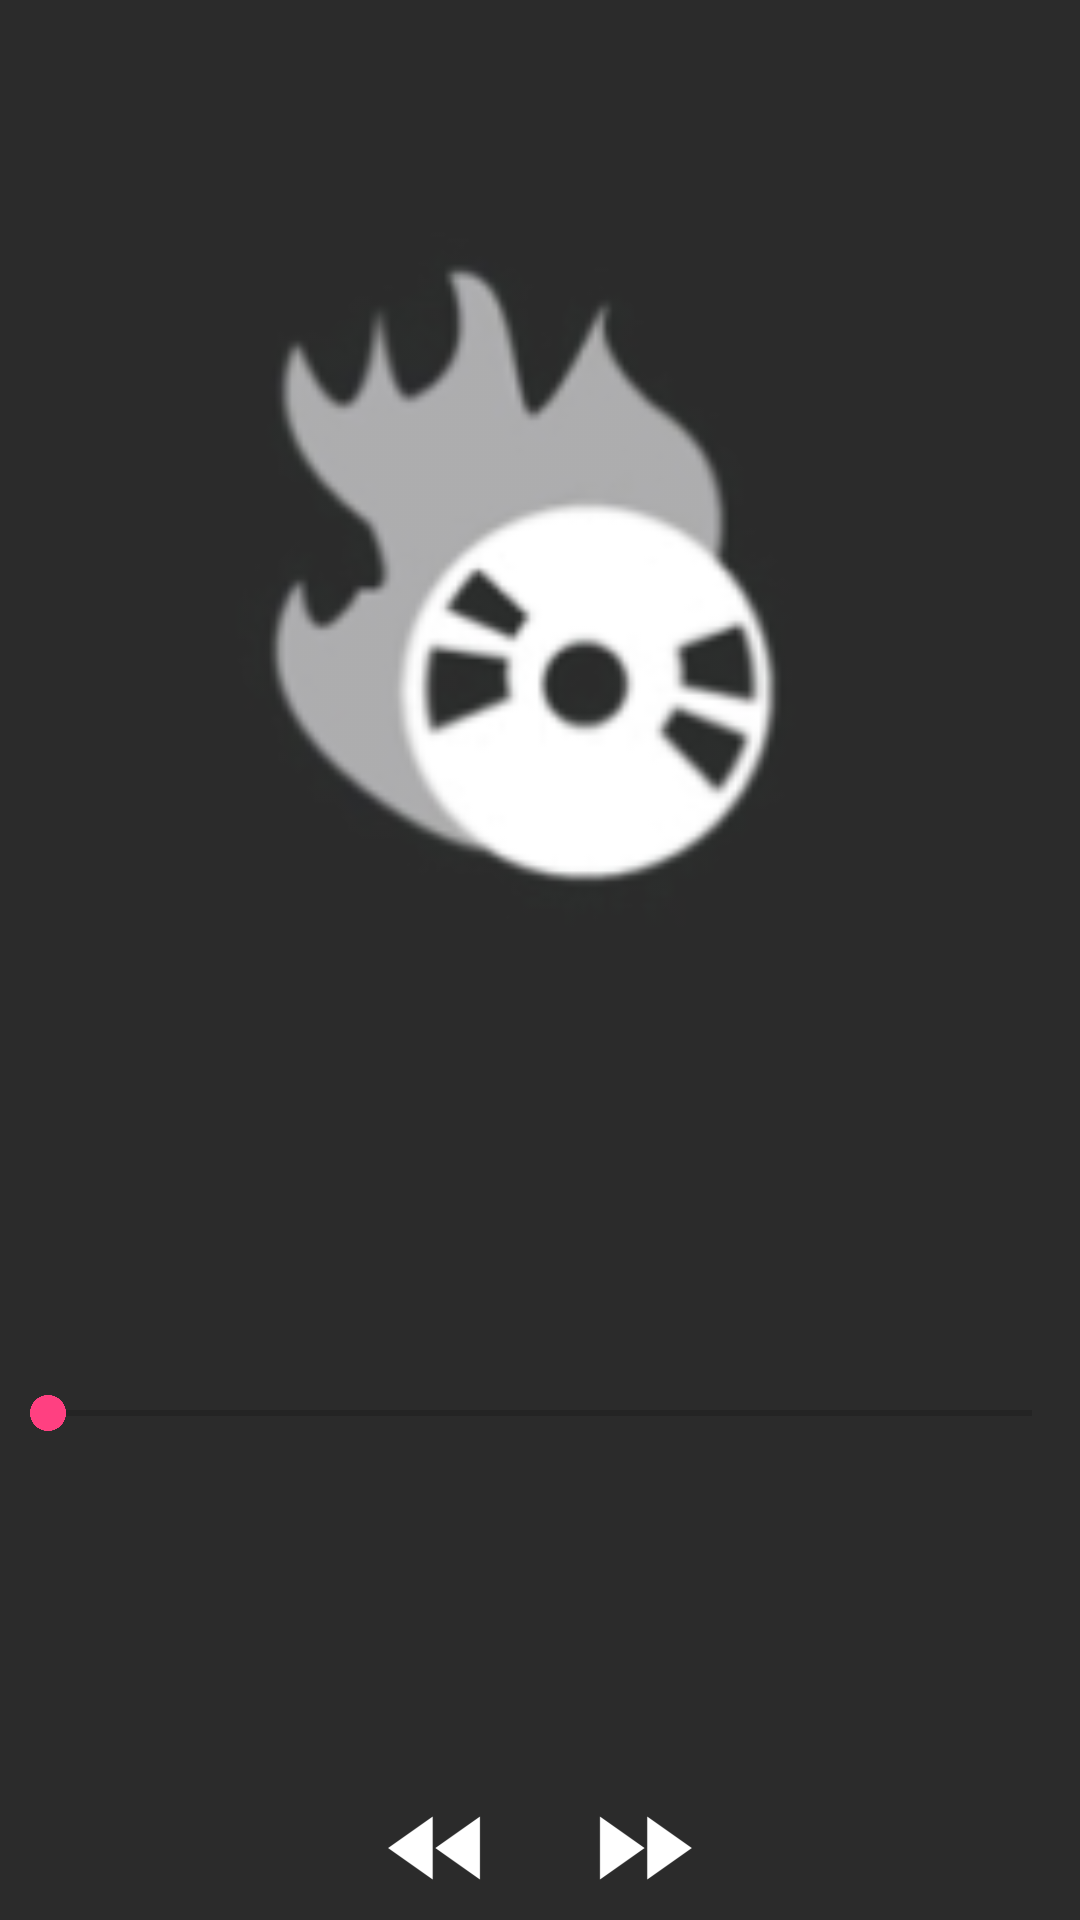

Screen size 1080x1920. Icon name, then its box in pixels as (x1=x1, y1=y1, x2=x2, y2=y2):
next: (x1=599, y1=1816, x2=692, y2=1880)
previous: (x1=388, y1=1816, x2=480, y2=1880)
